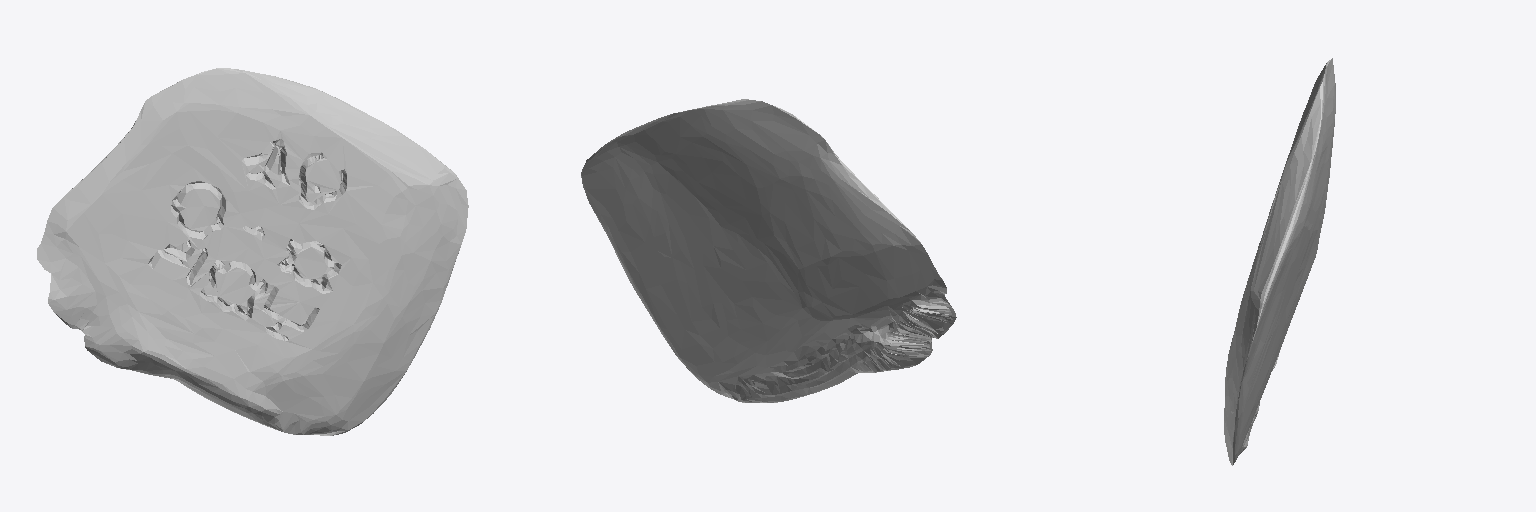
File: Tabulamtl.obj
3 renders of one model, left to right at view 1: azimuth 30°, elevation 25°; view 2: azimuth 150°, elevation 25°; view 3: azimuth 270°, elevation 25°, orthographic.
Parts seen in each view (by area): view 1: Tabulamtl; view 2: Tabulamtl; view 3: Tabulamtl.
Part boxes in pixels (left/top/right/bottom): Tabulamtl: left=37, top=68, right=468, bottom=435; Tabulamtl: left=581, top=99, right=956, bottom=402; Tabulamtl: left=1224, top=58, right=1335, bottom=465.
Size of the model in its own units: 151 by 127 by 36.77.